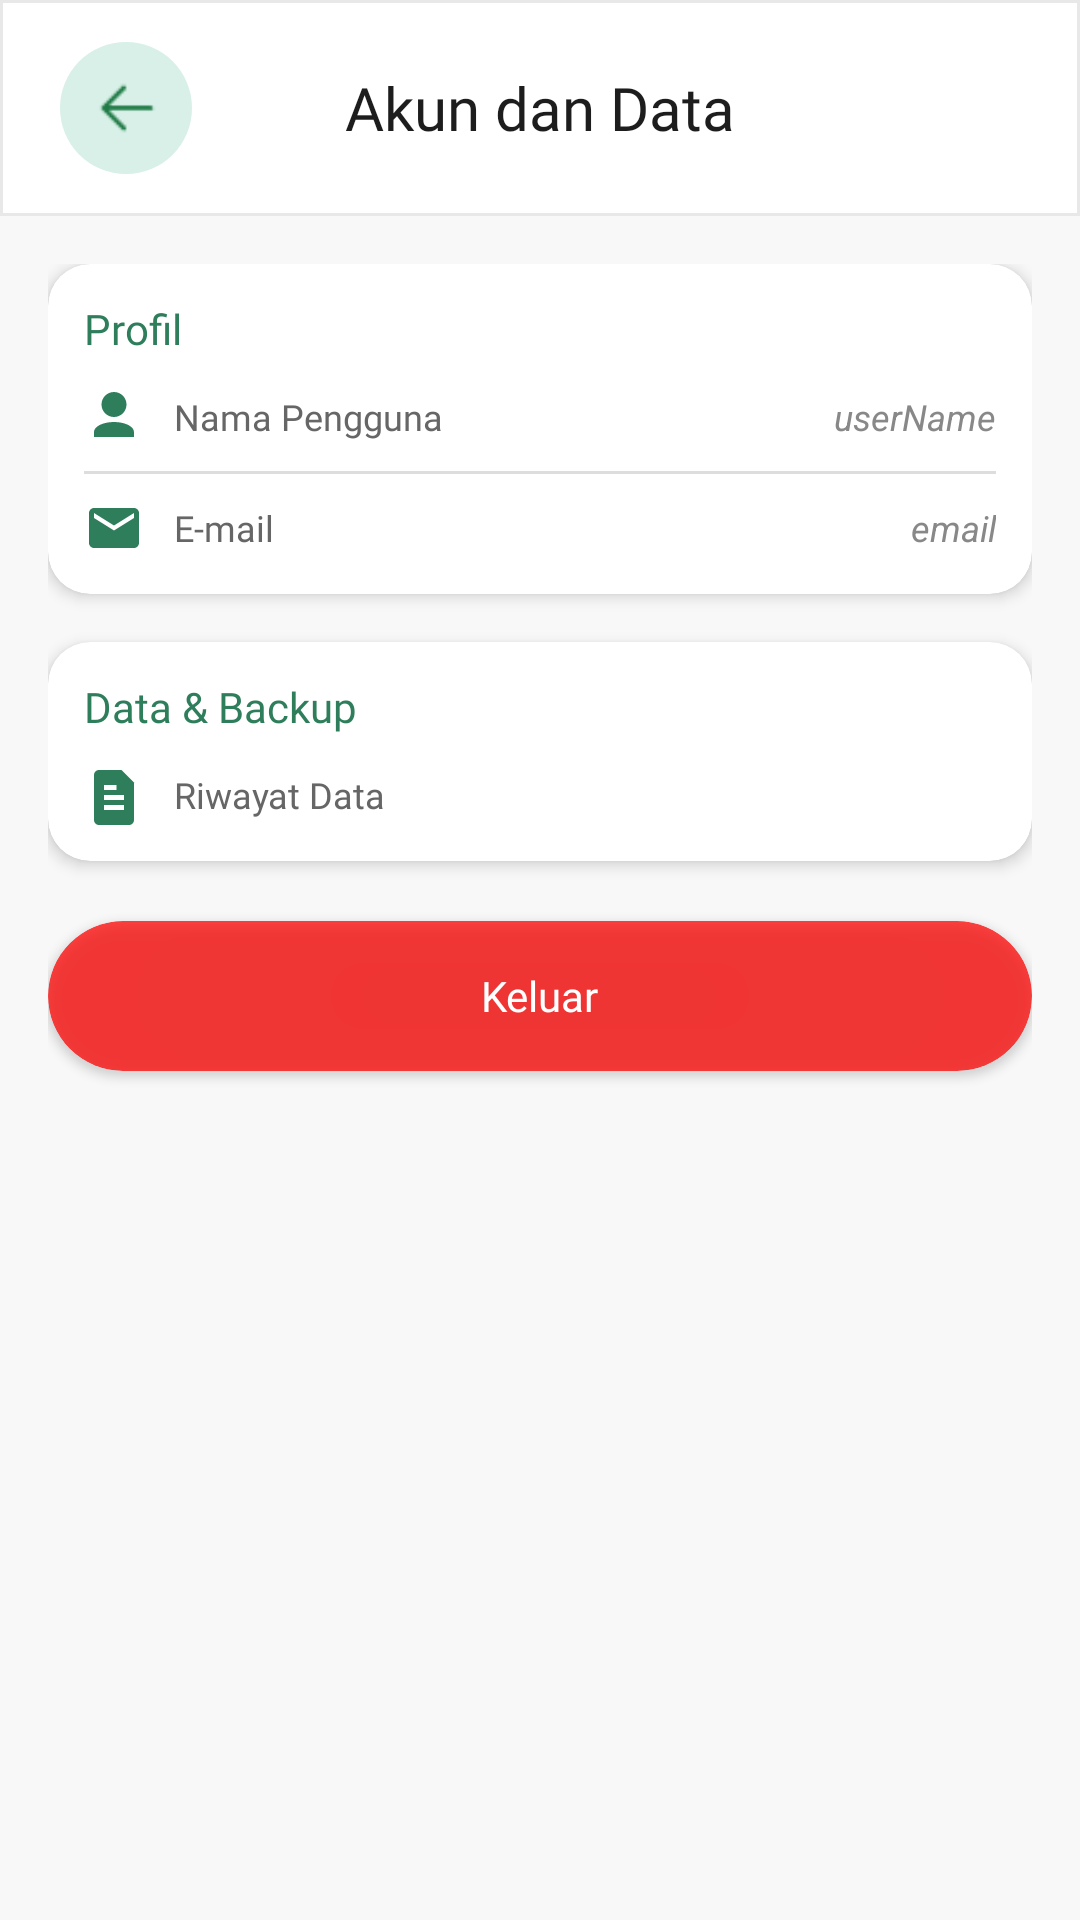

Where icons sit on this 1080px x 1920px app screen, as (x1, y1, x2, y2):
back: (101, 84, 154, 132)
user name: (94, 392, 134, 437)
